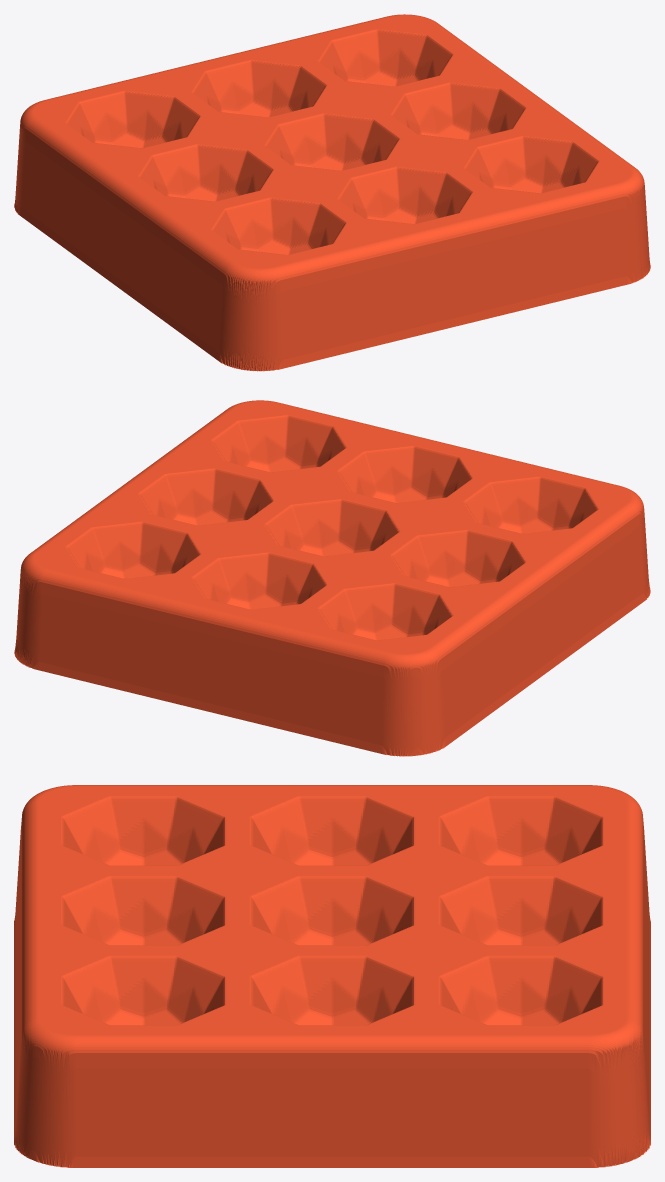
The model's file is mold.glb.
3 renders of one model, top to bottom at view 1: azimuth 30°, elevation 25°; view 2: azimuth 150°, elevation 25°; view 3: azimuth 270°, elevation 25°, orthographic. The views are drawn at different scales.
Visible parts, largest first — view 1: geometry_0; view 2: geometry_0; view 3: geometry_0.
Part boxes in pixels (x1,y1,x2,y2): geometry_0: [14, 14, 650, 371]; geometry_0: [14, 400, 650, 756]; geometry_0: [14, 785, 650, 1167].
Bounding box in the file's own units: 0.0924 × 0.0196 × 0.0924.
